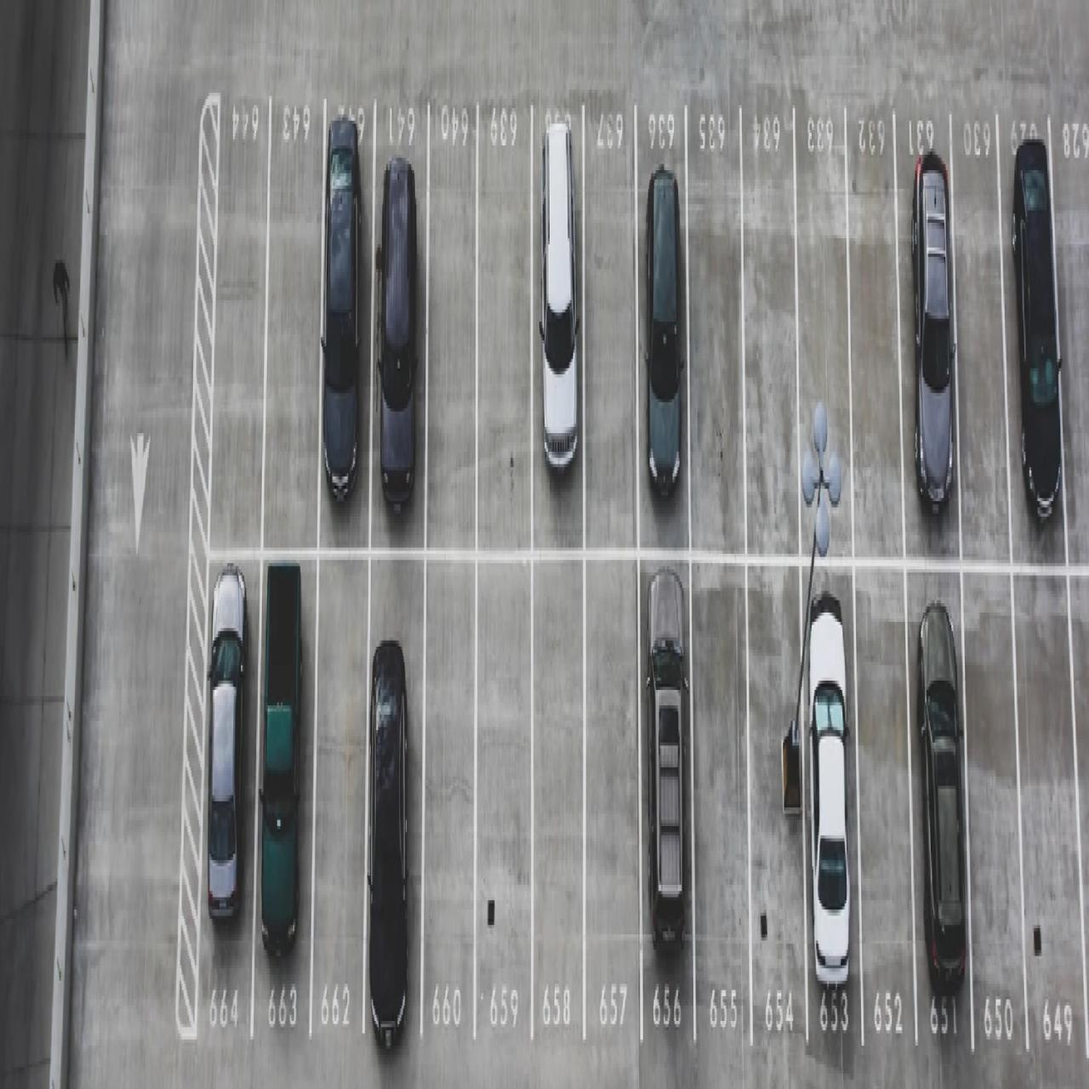cars: (750, 562, 811, 1063), (191, 555, 252, 1035), (633, 62, 689, 563), (368, 96, 421, 582), (801, 562, 852, 1053), (315, 102, 371, 548), (1005, 102, 1061, 541), (915, 556, 963, 1047), (907, 110, 958, 562), (643, 582, 689, 1055), (262, 541, 307, 1021), (538, 104, 588, 522), (374, 569, 418, 1021)
empty: (578, 541, 641, 1055), (1018, 575, 1078, 1083), (312, 555, 368, 1041), (694, 576, 750, 1061), (204, 82, 264, 534), (419, 568, 475, 1041), (474, 82, 532, 534), (857, 588, 912, 1061), (480, 562, 530, 1081), (744, 102, 798, 582), (965, 575, 1015, 1089), (530, 562, 581, 1053), (261, 116, 316, 561), (582, 96, 636, 535), (956, 104, 1007, 562), (689, 132, 739, 562), (806, 116, 853, 527), (425, 102, 469, 541), (856, 130, 898, 541)
